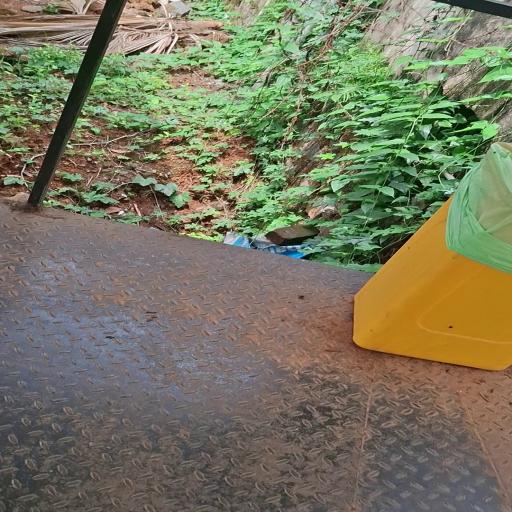Nilkamal-dustbin-detection: (354, 143, 512, 370)
